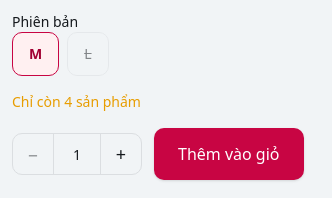
<AddToCart /> › caps the stepper at the available stock
Click the button named "Tăng số lượng".
click(121, 154)  # box [101,134,141,174]
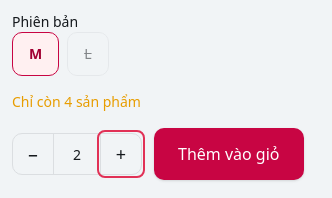
Click the button named "Tăng số lượng".
click(121, 154)  # box [101,134,141,174]
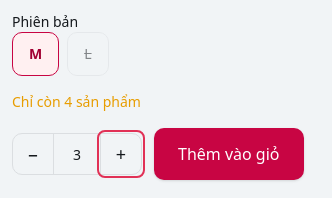
Click the button named "Tăng số lượng".
click(121, 154)  # box [101,134,141,174]
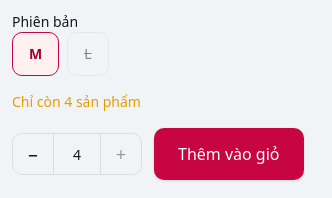
Now the number field named "Số lượng" holds "4", box [53,134,101,174]
Now the button named "Tăng số lượng" is disabled, box [101,134,141,174]
